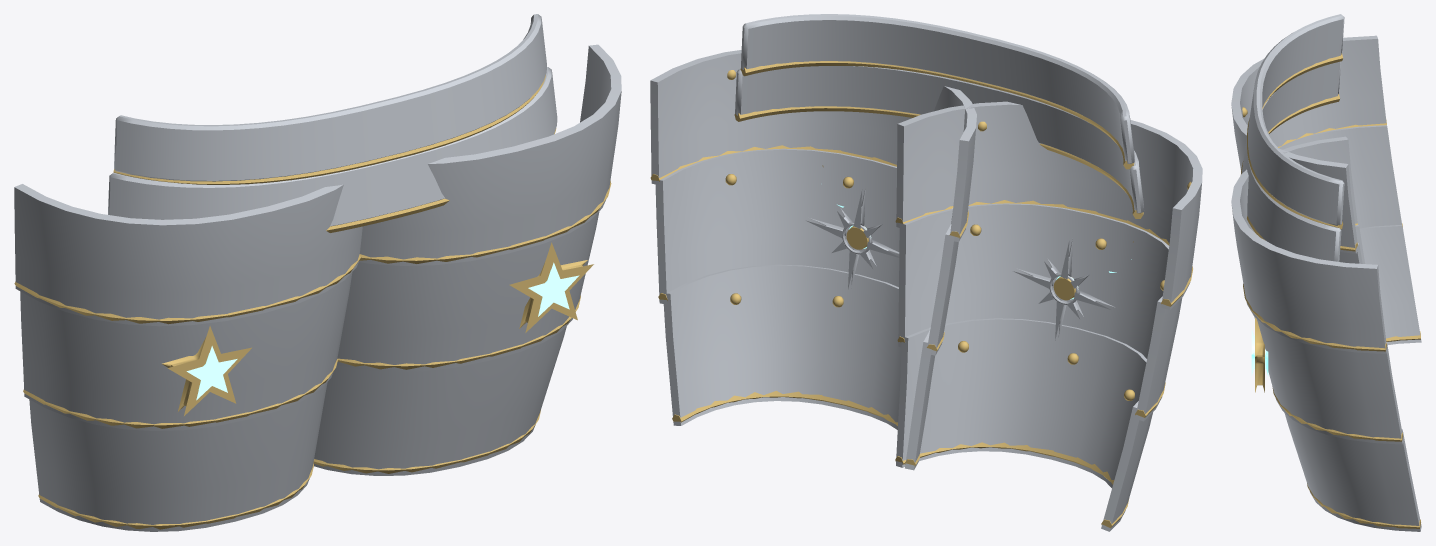
File: esc_last_crown_marshal_leggings.glb
3 renders of one model, left to right at view 1: azimuth 30°, elevation 25°; view 2: azimuth 150°, elevation 25°; view 3: azimuth 270°, elevation 25°, orthographic. The views are drawn at different scales.
Visible parts, largest first — view 1: AT_thigh_R, AT_thigh_L, esc_last_crown_marshal_leggings; view 2: AT_thigh_R, AT_thigh_L, esc_last_crown_marshal_leggings; view 3: AT_thigh_L, AT_thigh_R, esc_last_crown_marshal_leggings.
Boxes of the visible parts, box(x1,y1,x2,y2) form: AT_thigh_R: box(14, 184, 362, 531); AT_thigh_L: box(313, 44, 621, 475); esc_last_crown_marshal_leggings: box(108, 14, 557, 232); AT_thigh_R: box(895, 101, 1202, 531); AT_thigh_L: box(650, 50, 976, 470); esc_last_crown_marshal_leggings: box(734, 14, 1144, 340); AT_thigh_L: box(1231, 136, 1421, 531); AT_thigh_R: box(1231, 35, 1421, 344); esc_last_crown_marshal_leggings: box(1241, 14, 1344, 261).
Bounding box in the file's own units: 0.5129 × 0.3481 × 0.177.
